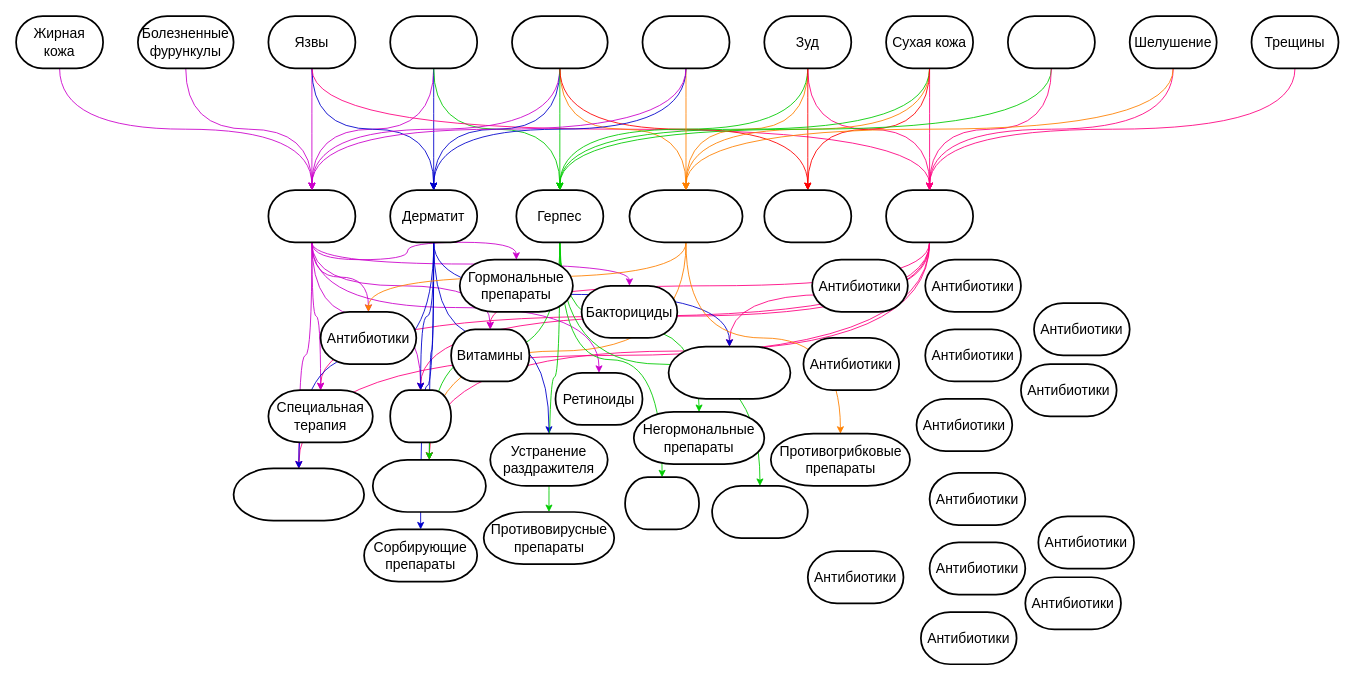
Some shapes in this 1354 by 679 pixel diagram are drawn without their labels. Each missing label, with the centre of its shape:
"Акне" belongs at (x=311, y=216).
"Антигистаминные препараты" belongs at (x=298, y=494).
"Вакцина" belongs at (x=661, y=503).
"Генотерапия" belongs at (x=759, y=512).
"Гнойники" belongs at (x=433, y=42).
"Диета" belongs at (x=420, y=416).
"Кортикостероиды" belongs at (x=729, y=372).
"Отрубевидный лишай" belongs at (x=685, y=216).
"Покраснение" belongs at (x=559, y=42).
"Пузырьки" belongs at (x=1051, y=42).
"Сыпь" belongs at (x=685, y=42).
"Увлажняющие средства" belongs at (x=428, y=485).
"Чесотка" belongs at (x=807, y=216).
"Экзема" belongs at (x=929, y=216).
